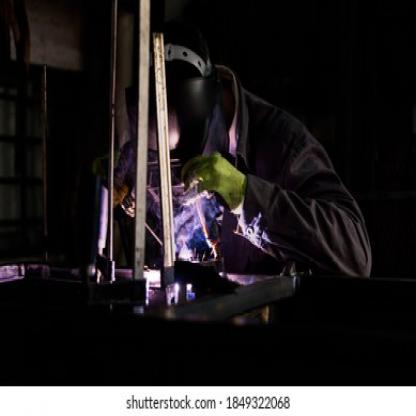glove: (182, 150, 245, 215)
